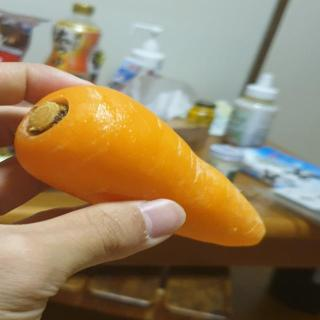carrot: (10, 81, 270, 249)
